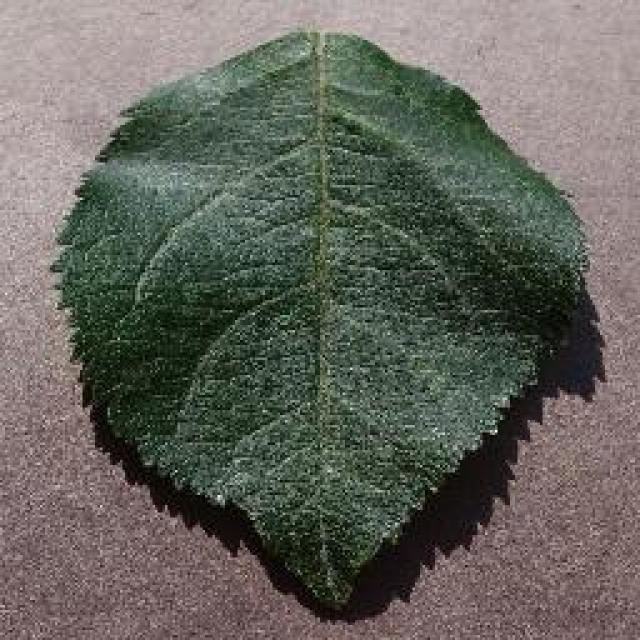apple scab disease: (48, 25, 592, 610)
